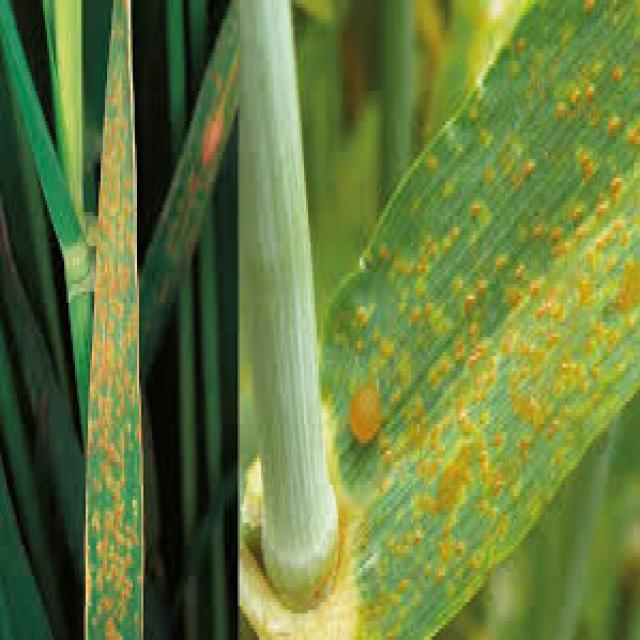leaf rust: (351, 4, 636, 602), (64, 4, 146, 640)
